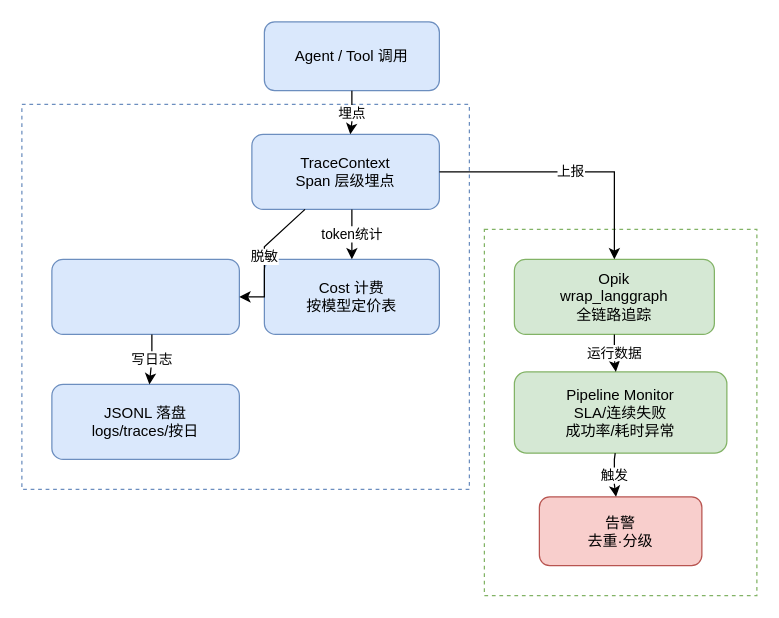
Some shapes in this 779 by 618 pixel diagram are drawn without their labels. Each missing label, with the box of its shape:
SQL 掩码 VALUES/密码/手机号: (51, 258, 239, 334)
埋点与成本: (21, 103, 469, 489)
平台与告警: (483, 228, 757, 596)
